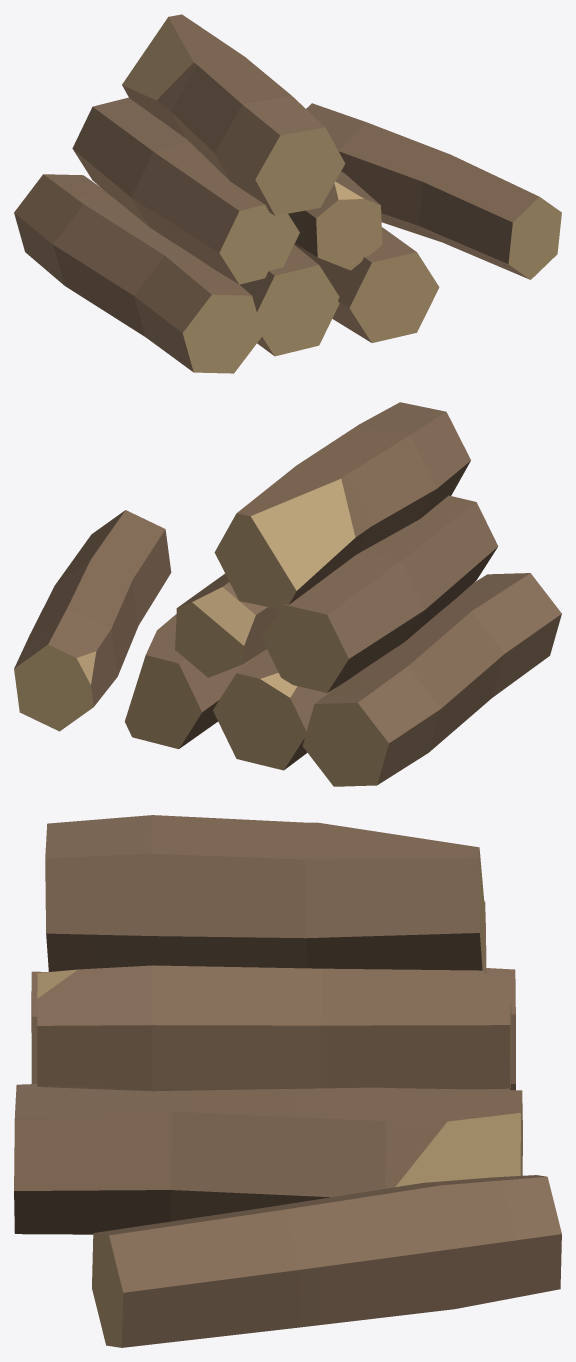
Rendered from Hilly_Prop_Camp_Wood_Pile.obj.
3 views of the same model, one above another, from view 1: azimuth 30°, elevation 25°; view 2: azimuth 150°, elevation 25°; view 3: azimuth 270°, elevation 25° (orthographic). The views are drawn at different scales.
Visible parts, largest first — view 1: object2, object6, object5, object3, object4, object1, object7; view 2: object2, object6, object5, object3, object1, object4, object7; view 3: object6, object4, object3, object7, object2.
Part boxes in pixels (x1,y1,x2,y2): object2: [14, 174, 262, 373]; object6: [122, 14, 345, 215]; object5: [72, 97, 299, 284]; object3: [306, 103, 561, 279]; object4: [294, 227, 439, 342]; object1: [240, 245, 339, 356]; object7: [288, 171, 382, 270]; object2: [302, 573, 561, 786]; object6: [214, 402, 470, 609]; object5: [262, 495, 498, 692]; object3: [14, 510, 171, 731]; object1: [213, 649, 334, 770]; object4: [124, 614, 257, 749]; object7: [175, 574, 280, 677]; object6: [45, 815, 484, 971]; object4: [14, 1084, 522, 1234]; object3: [92, 1175, 561, 1347]; object7: [37, 965, 511, 1091]; object2: [31, 968, 515, 1090].
Bounding box in the file's own units: 0.8912 × 0.4737 × 0.6918.
